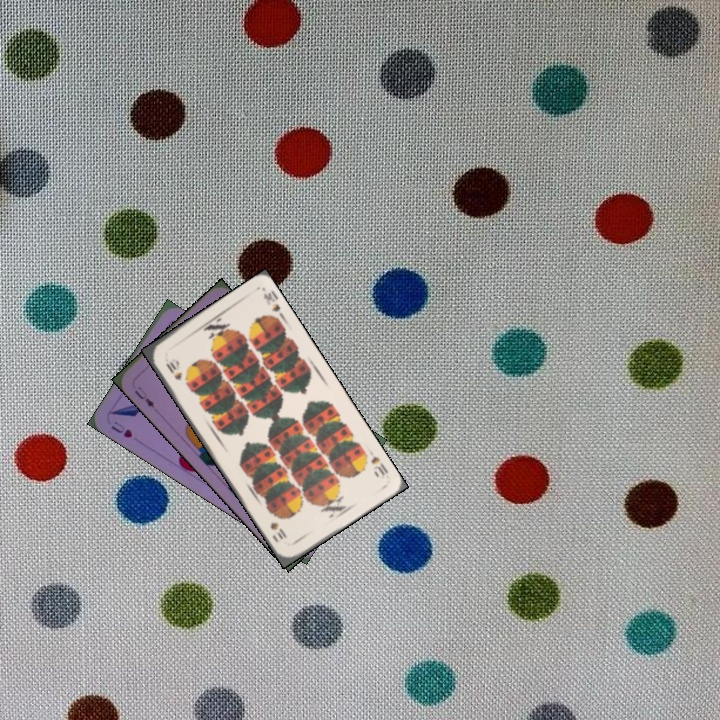EU: (130, 382, 157, 410)
HU: (107, 417, 135, 441)
S10: (367, 452, 391, 480), (162, 357, 184, 383)
